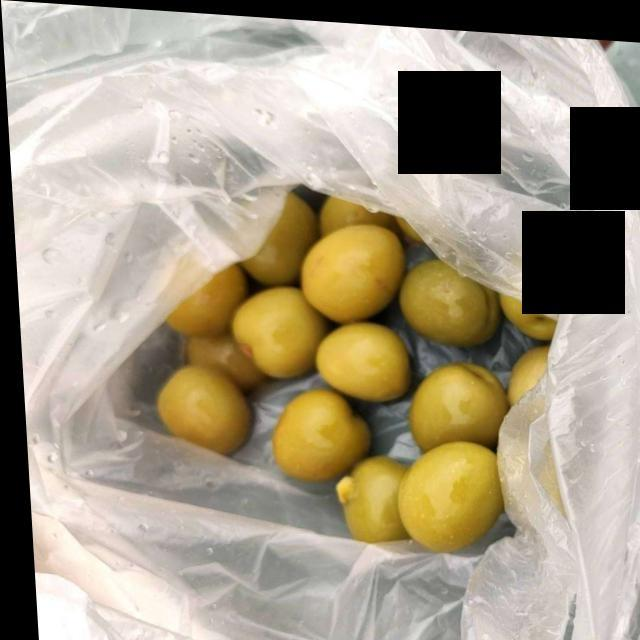green-olives: (158, 171, 546, 543)
